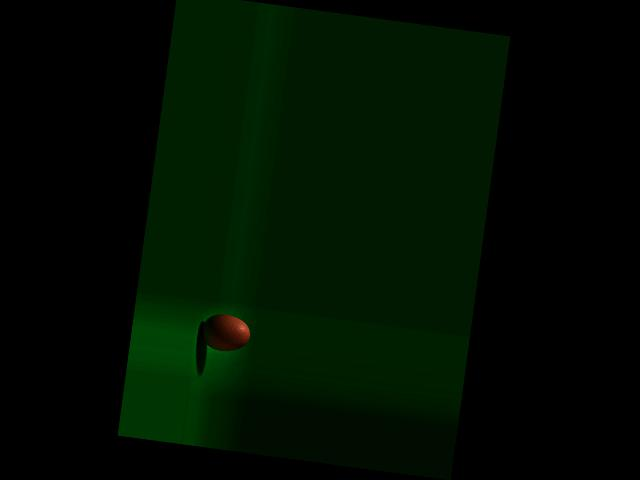egg: (198, 311, 251, 354)
